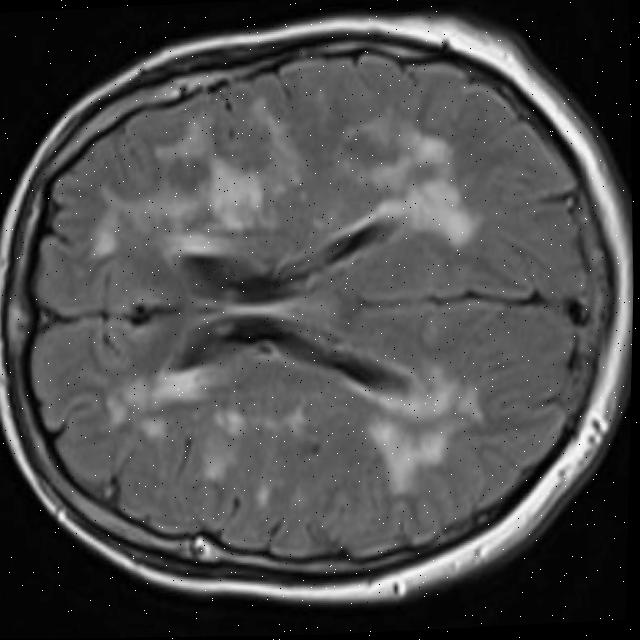NoTumor: (0, 4, 640, 622)
